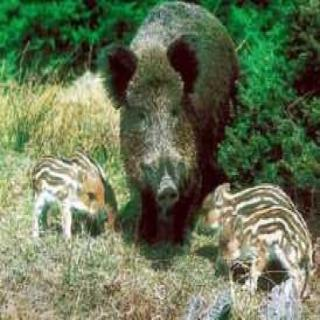Pig: (99, 0, 244, 225), (28, 142, 114, 256), (214, 206, 320, 290), (194, 187, 318, 245)
